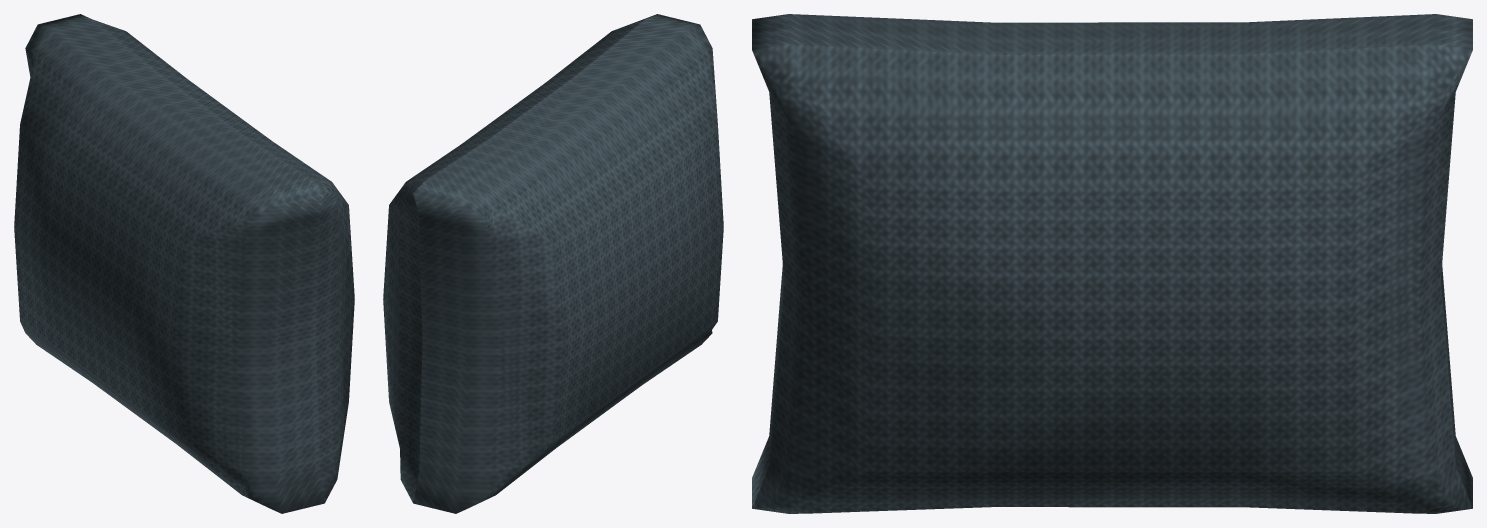
File: Cushion_B.fbx
3 views of the same model, side by side, from view 1: azimuth 30°, elevation 25°; view 2: azimuth 150°, elevation 25°; view 3: azimuth 270°, elevation 25° (orthographic). The views are drawn at different scales.
Visible parts, largest first — view 1: U_Cushion_B; view 2: U_Cushion_B; view 3: U_Cushion_B.
Part boxes in pixels (left/top/right/bottom): U_Cushion_B: left=14, top=14, right=354, bottom=513; U_Cushion_B: left=383, top=14, right=723, bottom=513; U_Cushion_B: left=752, top=14, right=1472, bottom=513.
Bounding box in the file's own units: 46.19 × 73.34 × 102.
